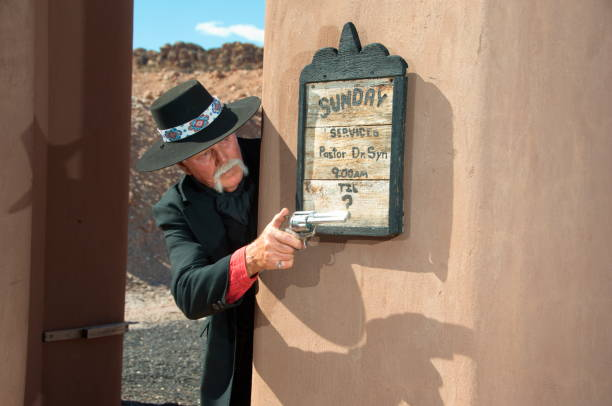gun: (285, 212, 352, 250)
